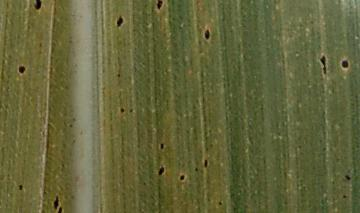tarspot: (317, 51, 330, 80), (200, 25, 214, 44), (49, 191, 61, 209), (15, 62, 29, 77), (30, 1, 45, 15), (114, 13, 126, 30), (154, 163, 168, 177), (338, 57, 352, 70), (201, 155, 211, 172), (151, 1, 168, 11), (176, 173, 189, 184), (343, 171, 354, 184), (339, 191, 351, 202), (16, 181, 26, 193), (216, 197, 226, 209), (157, 140, 166, 153), (192, 165, 202, 176), (117, 106, 127, 115), (55, 208, 66, 213)
